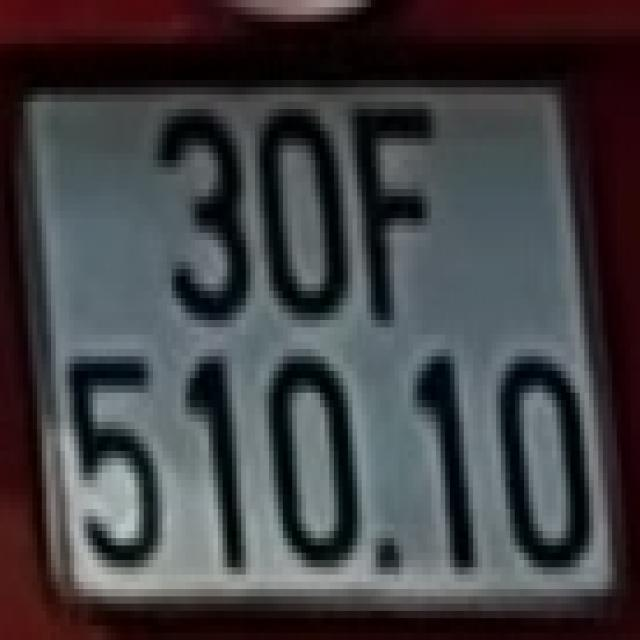0: (496, 349, 594, 575), (264, 349, 362, 575), (260, 102, 348, 320)
1: (413, 349, 482, 575), (181, 349, 250, 575)
3: (153, 102, 250, 327)
5: (65, 342, 167, 574)
F: (352, 95, 436, 327)
